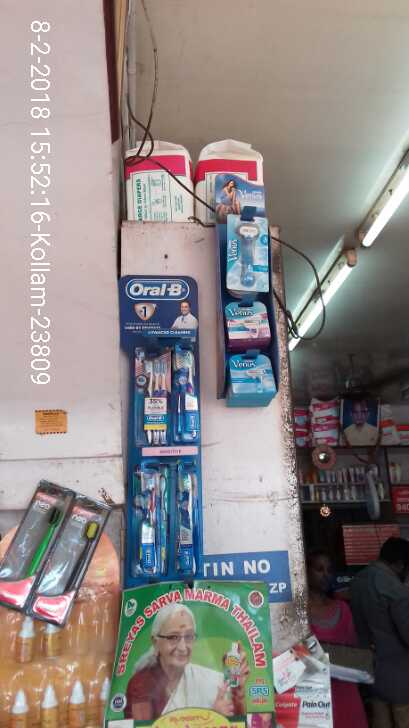beauty: (230, 209, 270, 292), (226, 350, 282, 408), (222, 300, 275, 342)
pharmacy: (170, 465, 208, 578), (132, 345, 171, 446), (172, 340, 205, 444), (133, 463, 159, 576)
